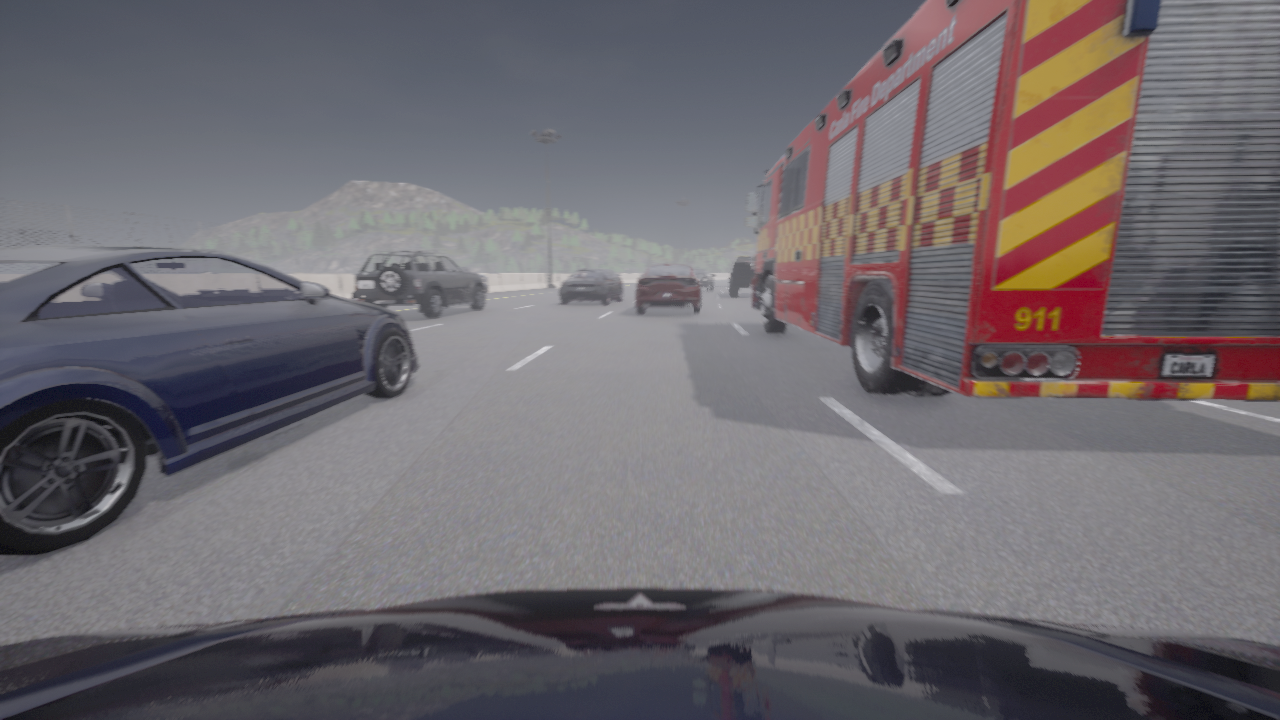cyclist: (745, 0, 1279, 400), (0, 588, 1279, 719), (0, 246, 418, 555), (351, 250, 488, 317), (636, 262, 703, 313), (558, 269, 622, 304), (729, 257, 755, 296), (693, 268, 714, 291), (604, 269, 621, 283)
